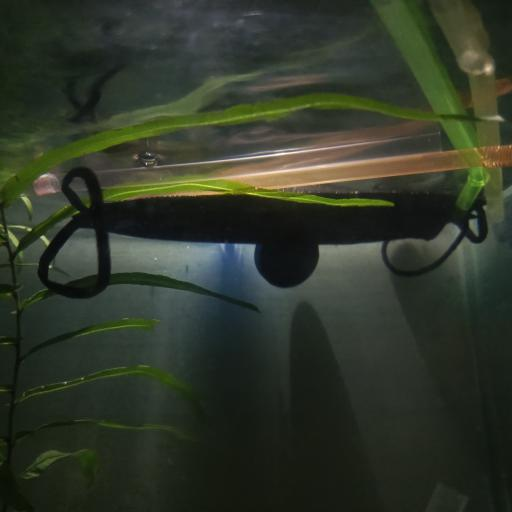bottle_cap: (252, 235, 321, 286)
mask: (40, 162, 512, 296)
plastic_straw: (376, 0, 488, 212), (0, 143, 424, 192), (422, 0, 512, 224), (137, 140, 512, 188)
